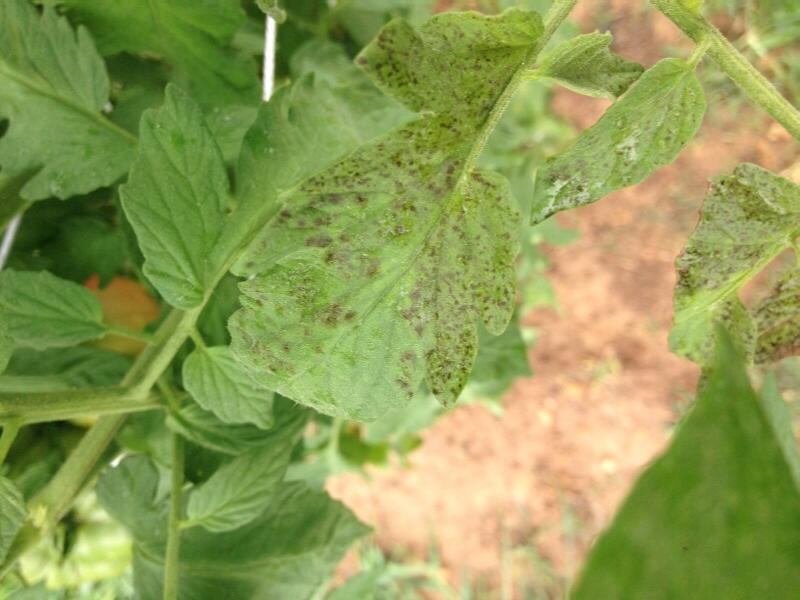Tomato Septoria leaf spot: (232, 132, 508, 411), (538, 55, 700, 231), (336, 21, 621, 114)
